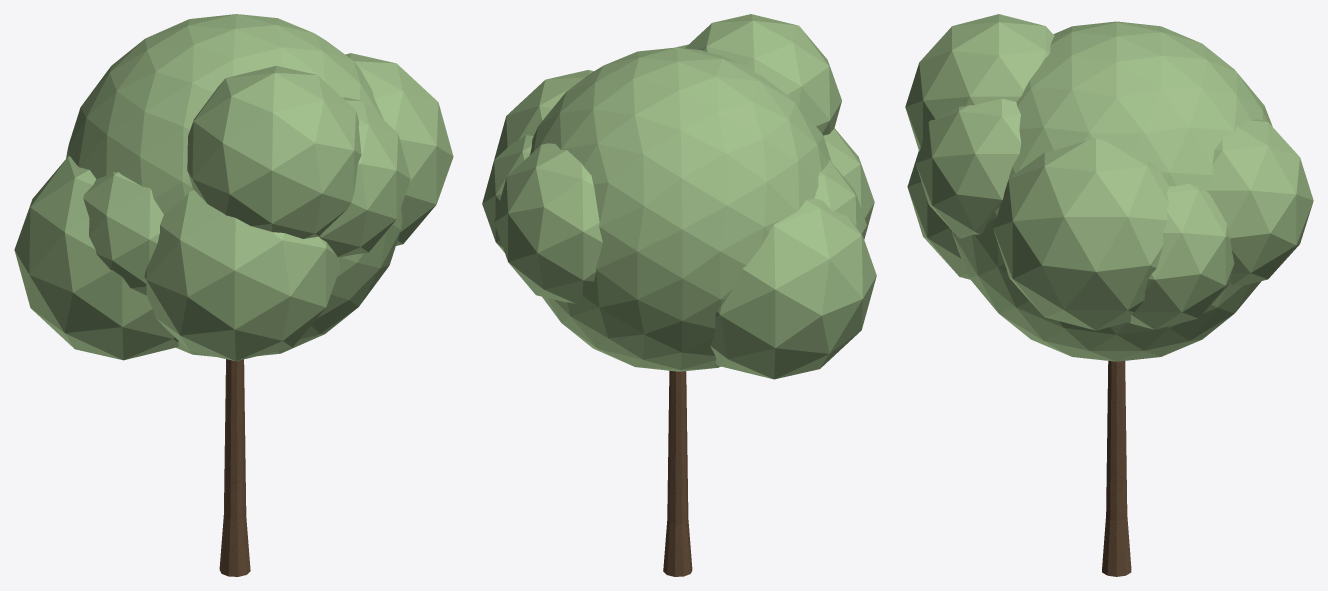
File: tree.glb
3 renders of one model, left to right at view 1: azimuth 30°, elevation 25°; view 2: azimuth 150°, elevation 25°; view 3: azimuth 270°, elevation 25°, orthographic. The views are drawn at different scales.
Parts seen in each view (by area): view 1: tree_leaf, tree_bark; view 2: tree_leaf, tree_bark; view 3: tree_leaf, tree_bark.
Boxes of the visible parts, x1=… form: tree_leaf: x1=14, y1=14, x2=453, y2=361; tree_bark: x1=219, y1=359, x2=250, y2=576; tree_leaf: x1=482, y1=14, x2=876, y2=379; tree_bark: x1=663, y1=370, x2=692, y2=576; tree_leaf: x1=905, y1=14, x2=1313, y2=361; tree_bark: x1=1102, y1=361, x2=1131, y2=576.
Size of the model in its own units: 5.26 by 6.94 by 4.77.
Materials: 2 (1 with a texture image).
